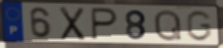6: (28, 6, 53, 40)
8: (124, 8, 148, 41)
G: (184, 9, 213, 43)
P: (90, 6, 120, 42)
Q: (153, 8, 184, 43)
X: (59, 5, 87, 42)
